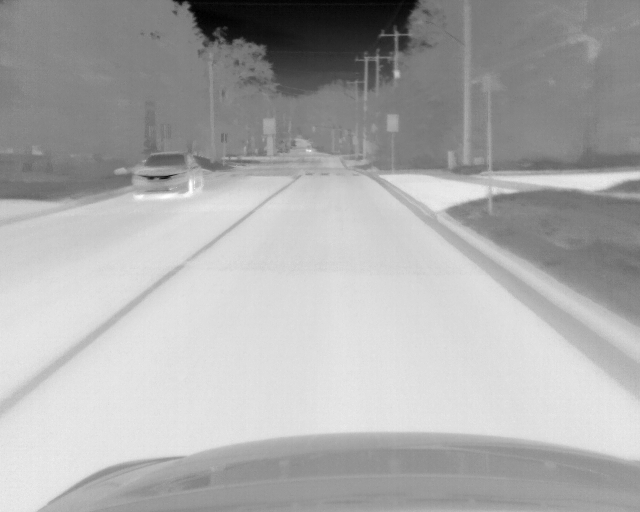car: (130, 153, 204, 200)
